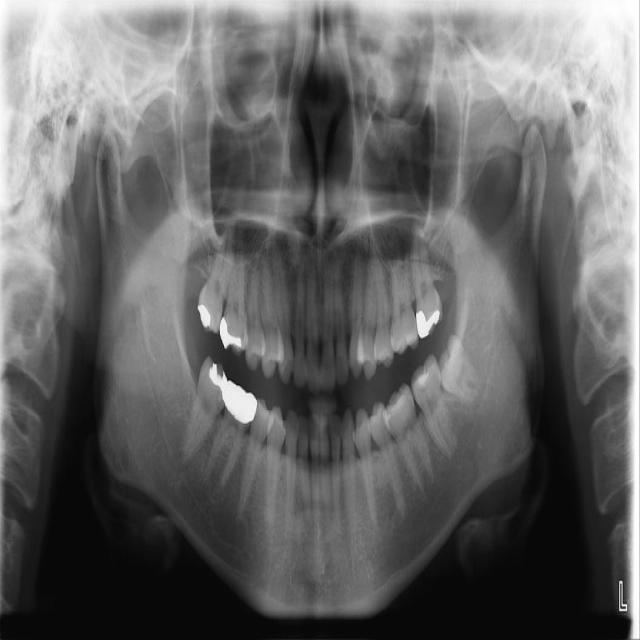Crown: (222, 381, 257, 423)
Filling: (219, 316, 242, 349), (415, 309, 440, 339), (195, 301, 214, 329), (209, 362, 228, 389), (418, 375, 428, 385)
impacted tooth: (439, 337, 489, 401)
